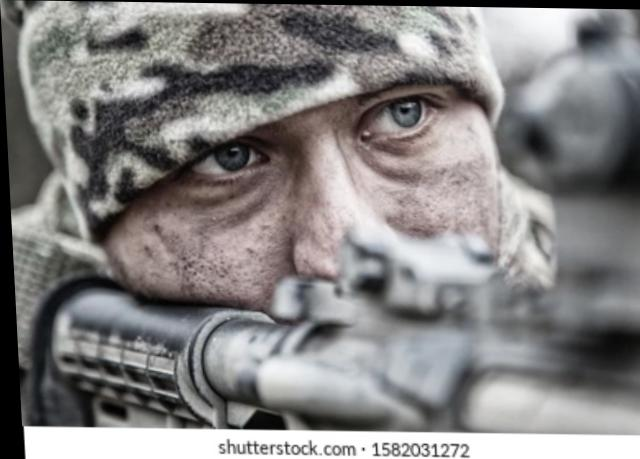other: (0, 2, 527, 426)
